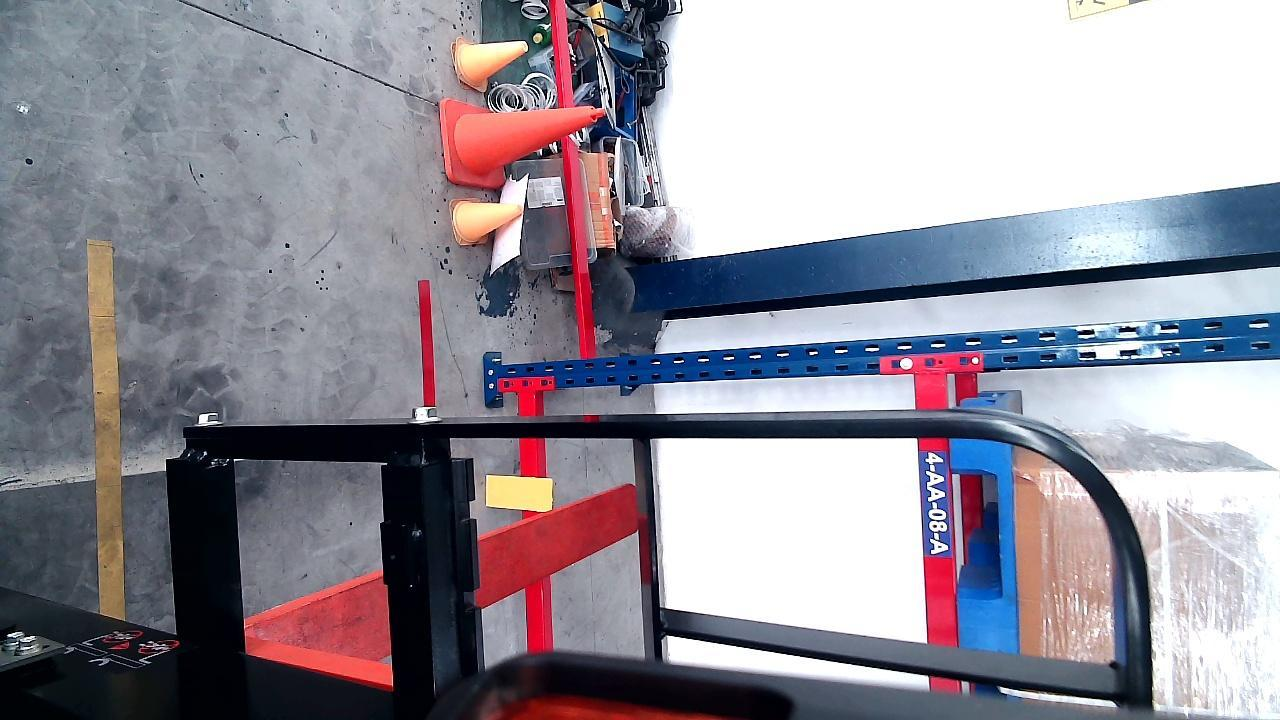red_line: (415, 278, 440, 408)
yellow_line: (92, 236, 126, 616)
